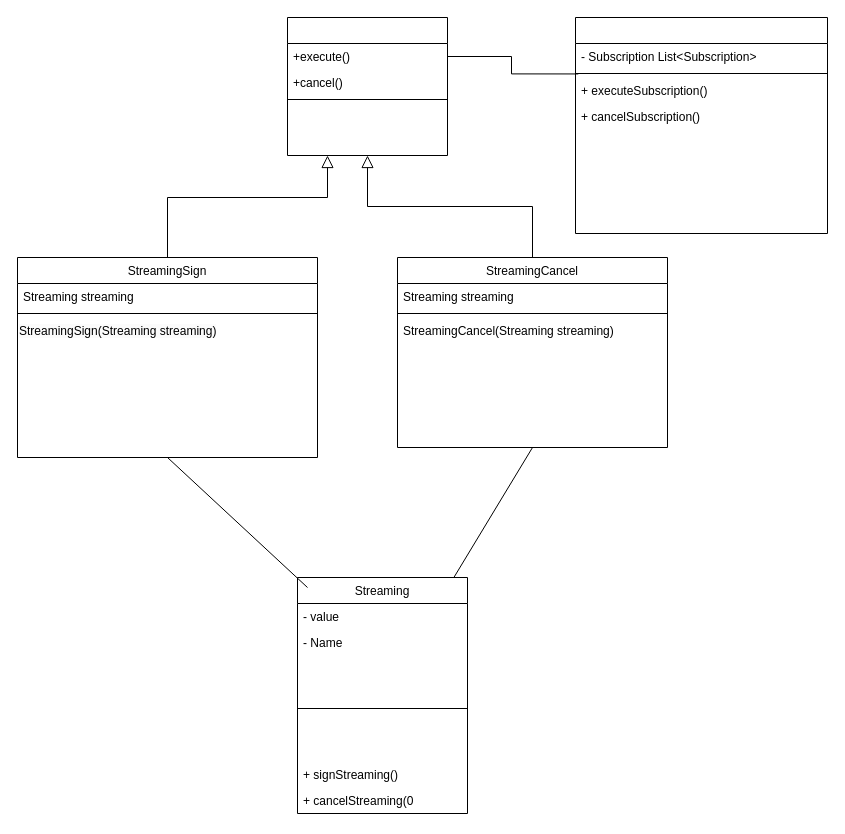
Some shapes in this 845 by 834 pixel diagram are drawn without their labels. The shapes that lost their labels are listed below. From the top down, each one's box as (x1, y1, x2, y2) in pixels, then its label:
(286, 16, 448, 156): Subscription
(574, 16, 828, 234): Client
